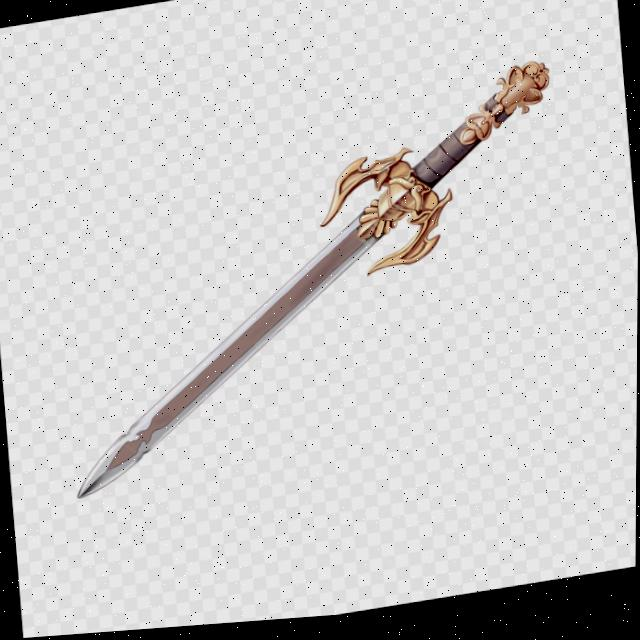knife: (42, 64, 580, 507)
